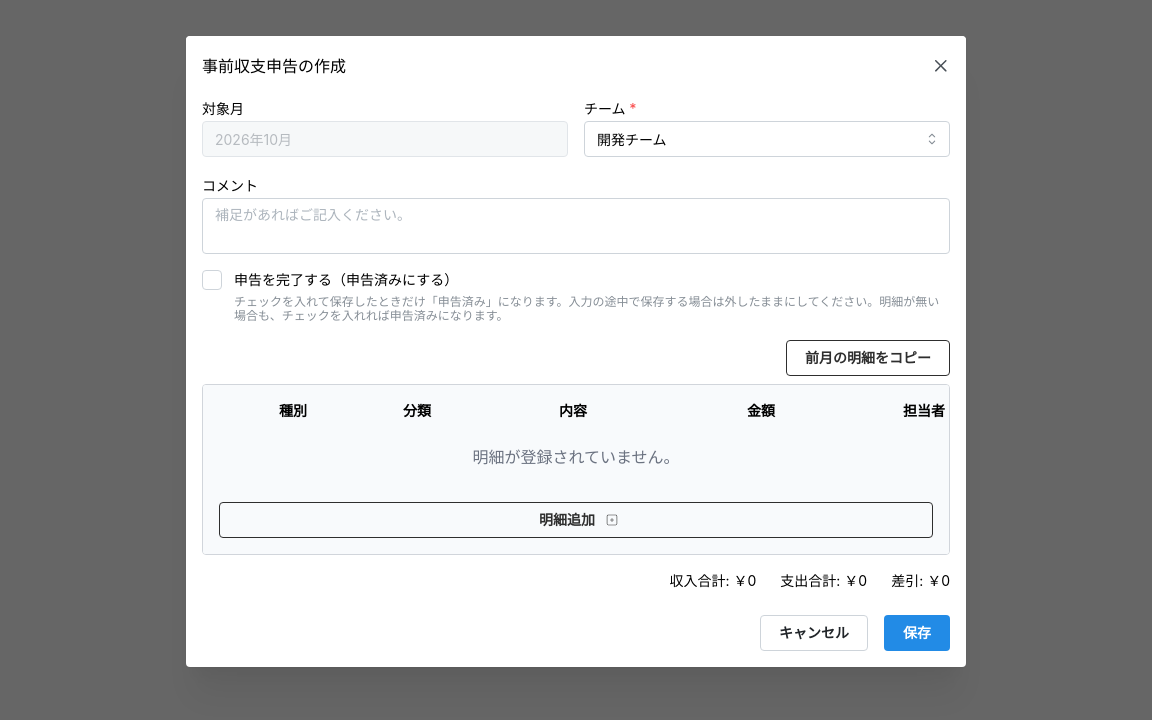
Scenario: BudgetDeclarationForm › 前月の明細をコピー › コピー後にチームを変更すると確認のうえ明細をクリアする（別チームの明細を紛れ込ませない）
What coordinates should you click on to do the following:
click the button "前月の明細をコピー"
I would click on:
 (868, 358)
Its box is [786, 340, 950, 376].
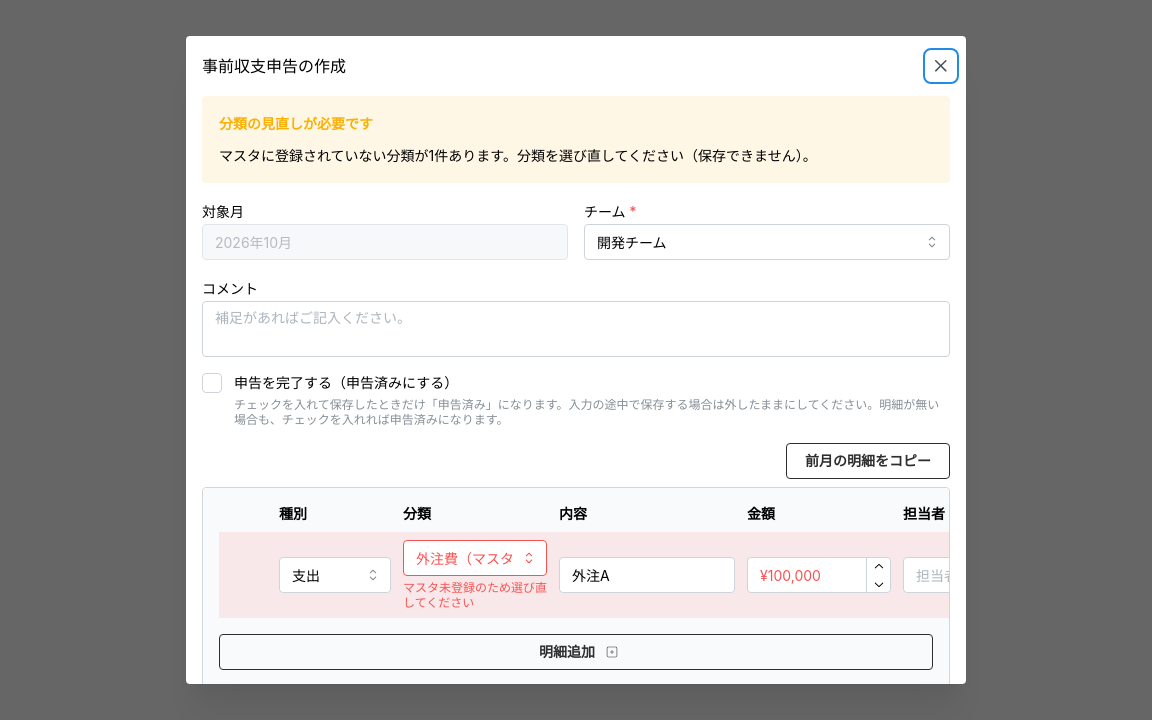
Expected: the 3rd field showing "外注A" is shown, [559, 557, 735, 593]
What coordinates should you click on to do the following:
click the field labelled "チーム"
I would click on:
 (767, 242)
Its box is [584, 224, 950, 260].
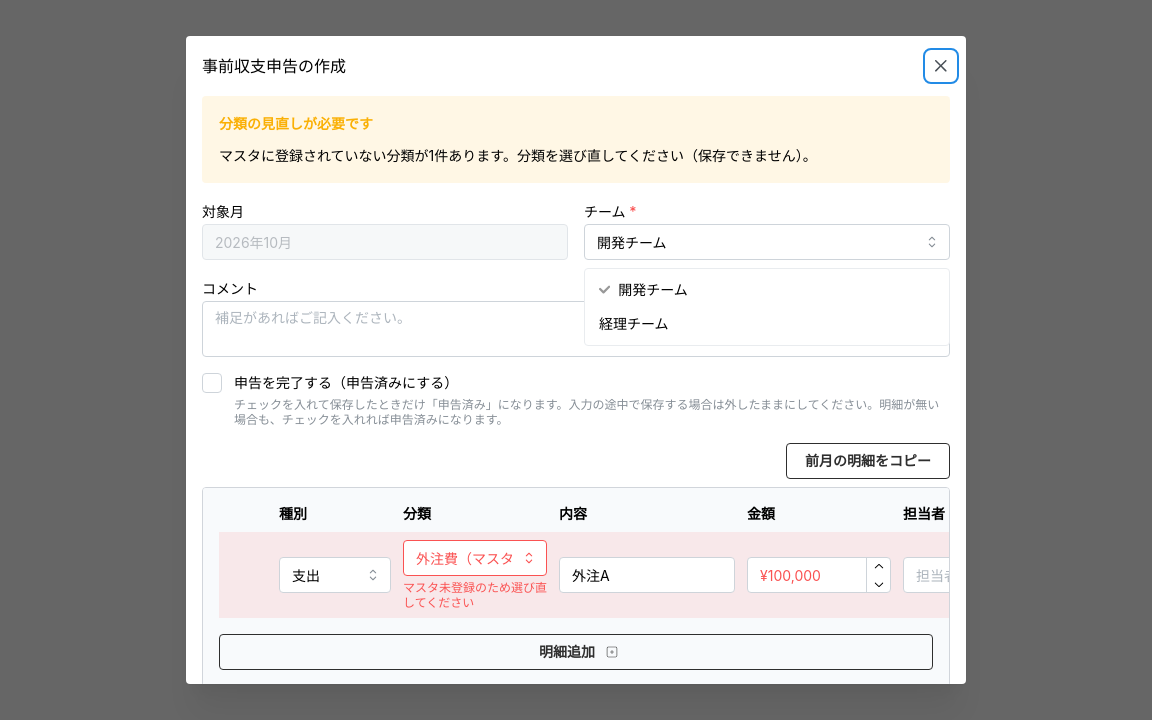
What coordinates should you click on to do the following:
click the option "経理チーム"
I would click on:
 (634, 323)
Its box is [599, 315, 669, 332].
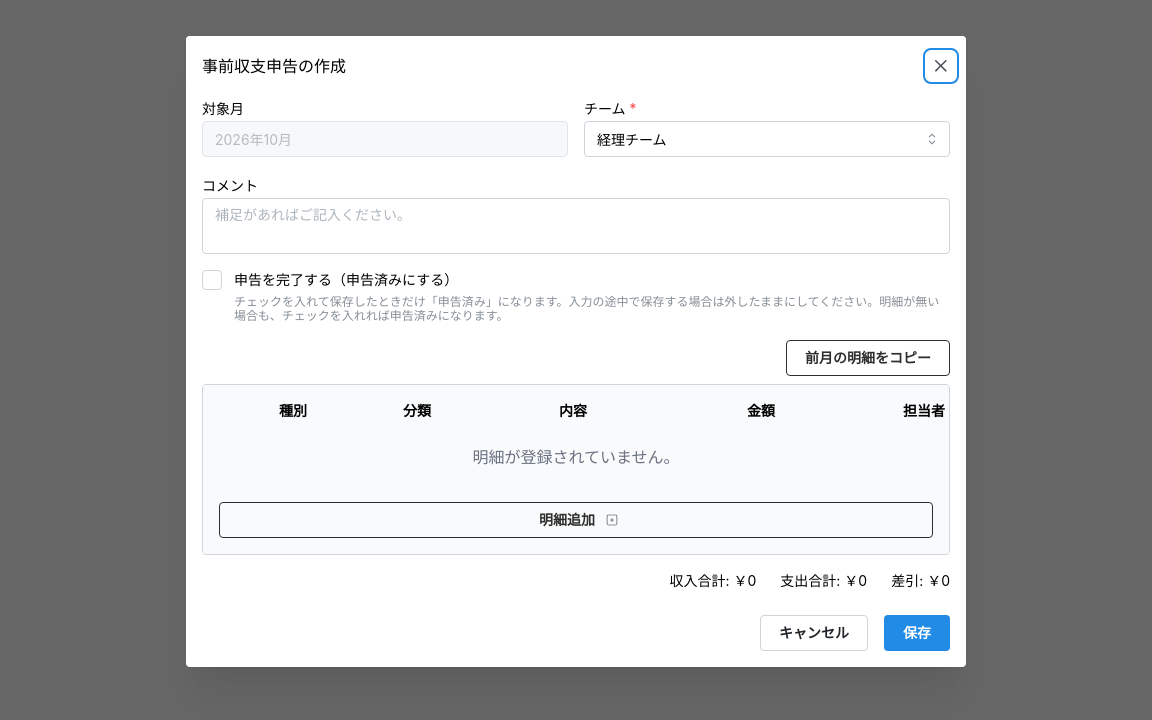
Expected: the field showing "外注A" is not shown
Expected: the field labelled "チーム" holds "経理チーム", [584, 121, 950, 157]
